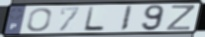7: (58, 6, 81, 32)
9: (140, 4, 167, 32)
I: (118, 5, 134, 32)
L: (82, 6, 106, 32)
O: (25, 7, 53, 33)
Z: (165, 5, 196, 32)
